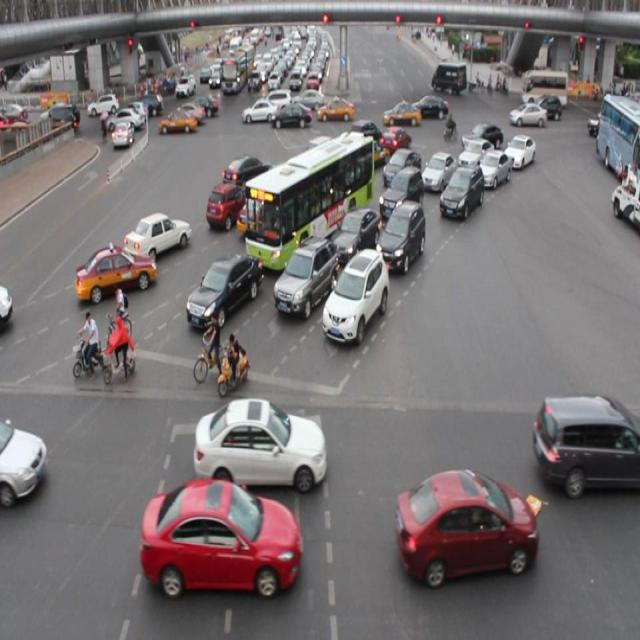car: (141, 480, 298, 591), (396, 468, 535, 574), (193, 396, 324, 489), (323, 247, 386, 343), (188, 253, 261, 323), (275, 238, 337, 314), (74, 246, 159, 300), (1, 422, 47, 507), (377, 200, 424, 270), (329, 206, 380, 263), (126, 214, 191, 258), (378, 167, 424, 219), (440, 164, 483, 218), (269, 160, 313, 207), (206, 184, 251, 228), (236, 192, 281, 235), (322, 153, 367, 194), (222, 155, 269, 191), (420, 150, 457, 191), (382, 149, 420, 188), (456, 136, 492, 176), (461, 123, 502, 156), (346, 119, 382, 155), (502, 134, 534, 172), (350, 138, 387, 170), (478, 150, 508, 189), (377, 127, 409, 160), (1, 283, 14, 331)
truck: (538, 390, 640, 489), (302, 136, 344, 179)
van: (246, 138, 371, 270)
